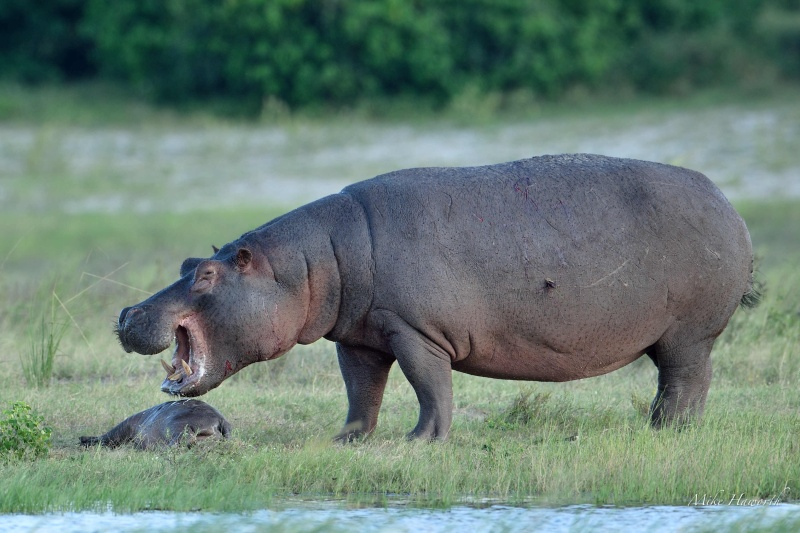hipopotamo: (113, 154, 758, 449)
